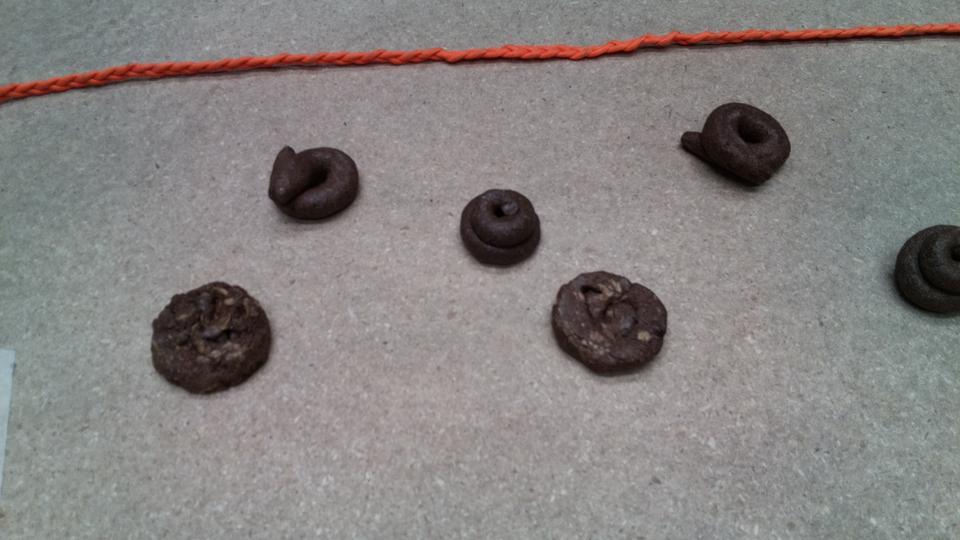poop: (147, 280, 278, 397), (546, 268, 674, 382), (676, 95, 800, 200), (454, 182, 547, 270), (264, 142, 360, 224), (895, 220, 960, 323)
rope: (638, 21, 960, 60), (180, 42, 469, 85), (450, 30, 658, 76), (3, 59, 195, 101)
